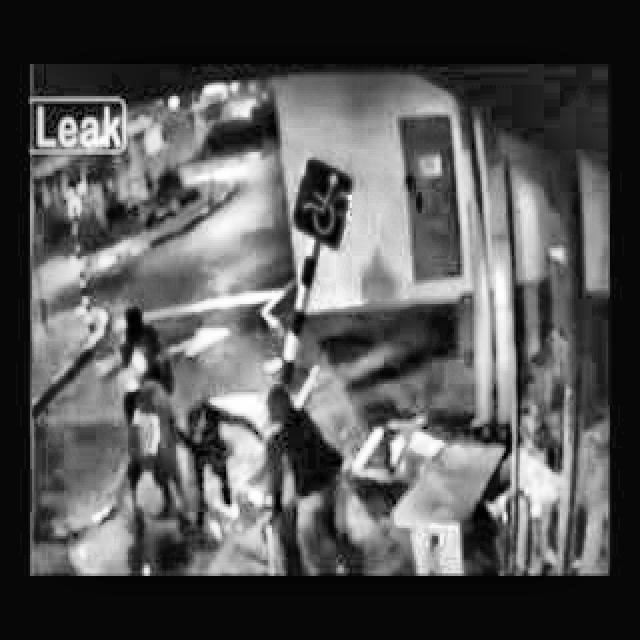Weapon: (98, 283, 388, 562)
